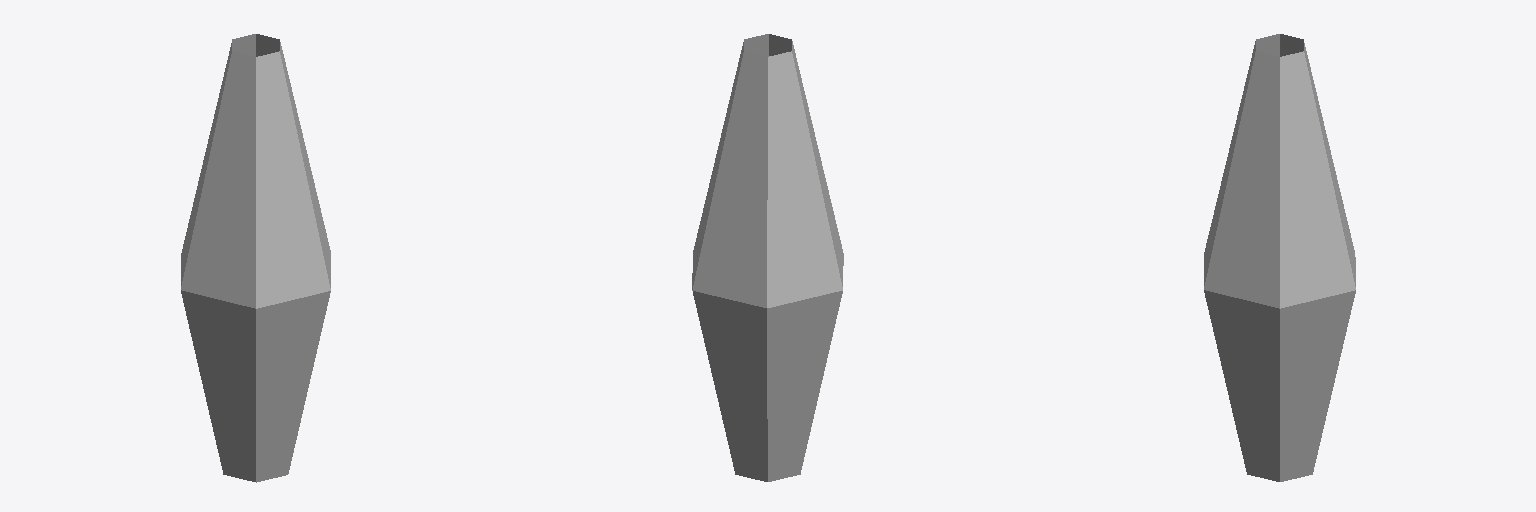
The model's file is LampConvexMesh_2.obj.
3 renders of one model, left to right at view 1: azimuth 30°, elevation 25°; view 2: azimuth 150°, elevation 25°; view 3: azimuth 270°, elevation 25°, orthographic.
Parts seen in each view (by area): view 1: LampConvexHull_2; view 2: LampConvexHull_2; view 3: LampConvexHull_2.
Boxes of the visible parts, <box> form: LampConvexHull_2: <box>181,34,330,482</box>; LampConvexHull_2: <box>692,34,843,481</box>; LampConvexHull_2: <box>1204,34,1355,481</box>.
Size of the model in its own units: 0.1024 by 0.2737 by 0.0898.